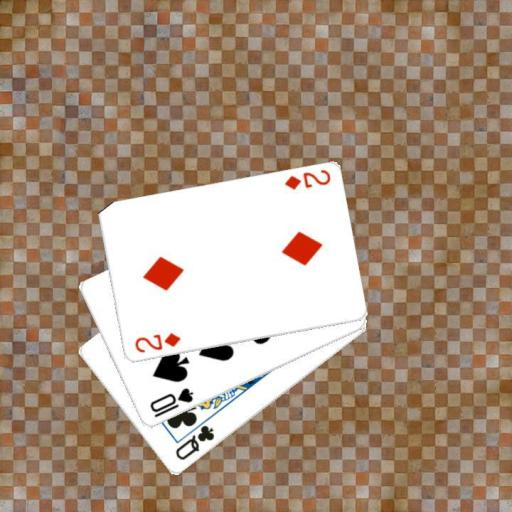10S: (146, 385, 195, 420)
2D: (282, 166, 332, 192), (131, 330, 182, 355)
QC: (172, 422, 217, 462)
